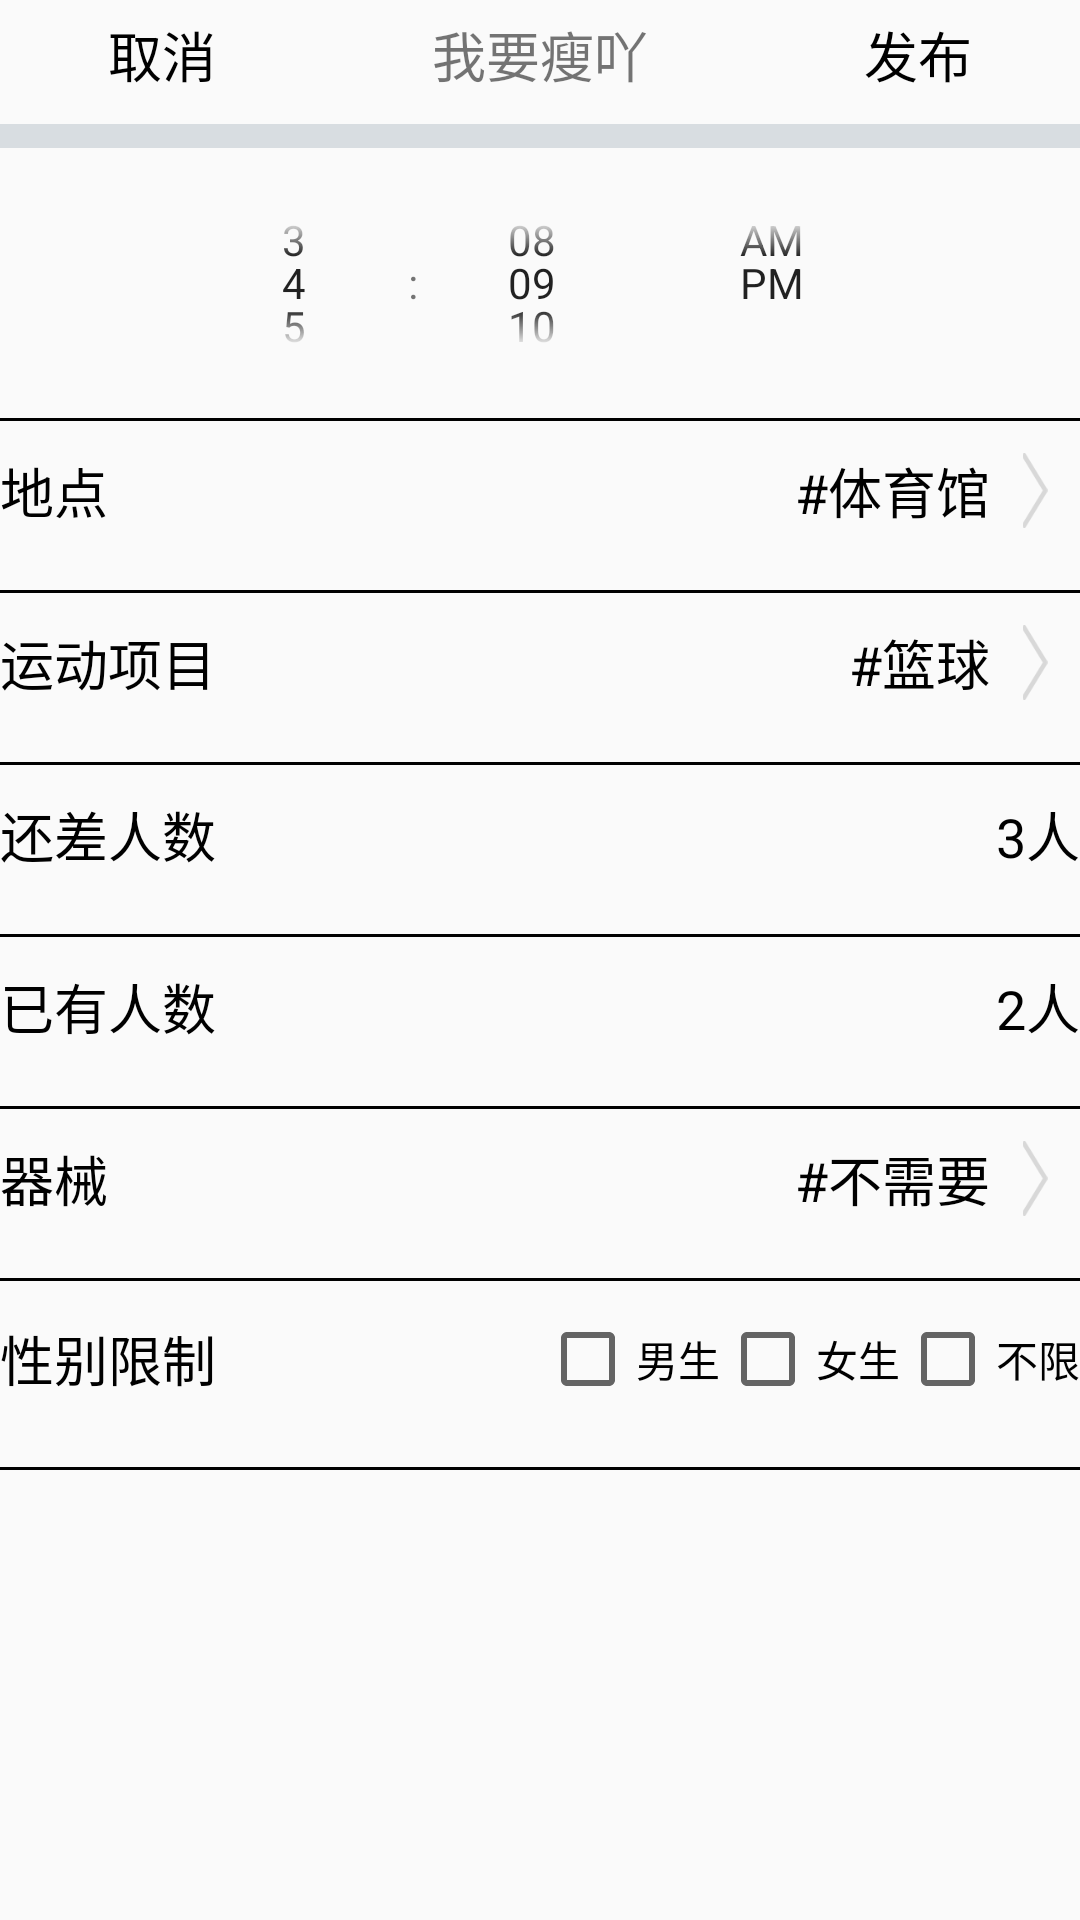

Icons on this 1080*1920 Android screen, each with the point to tap as [x,y]:
look partner more right: [1035,490], [1035,662], [1035,1178]
